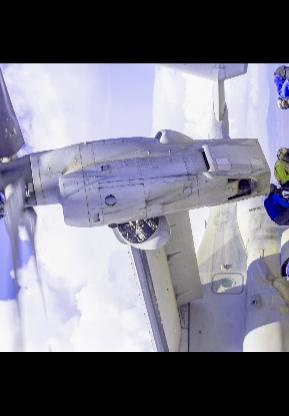Tornado: (0, 64, 287, 353)
